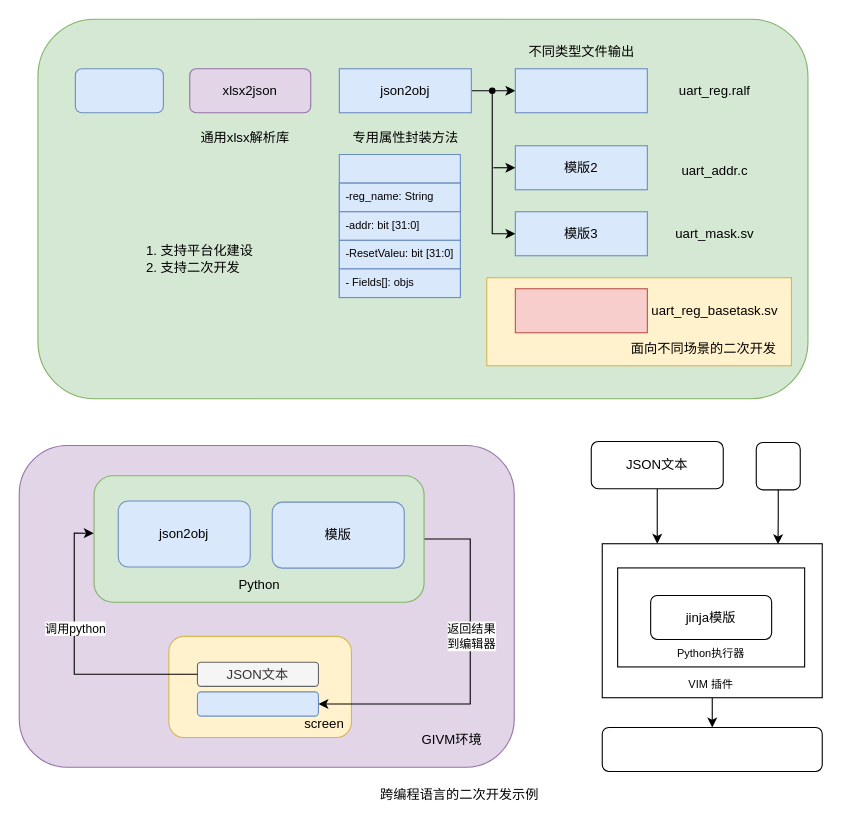
Image size: 842x831. Some labels were removed from this diagram. Each missing label, with the box of its shape:
excel: (74, 68, 163, 113)
Register_group[ ]: (338, 153, 460, 298)
参数1: (755, 441, 800, 490)
格式化代码: (196, 691, 318, 716)
模版1: (514, 68, 647, 113)
编辑器终端: (601, 726, 822, 771)
自定义模版: (514, 288, 647, 333)
